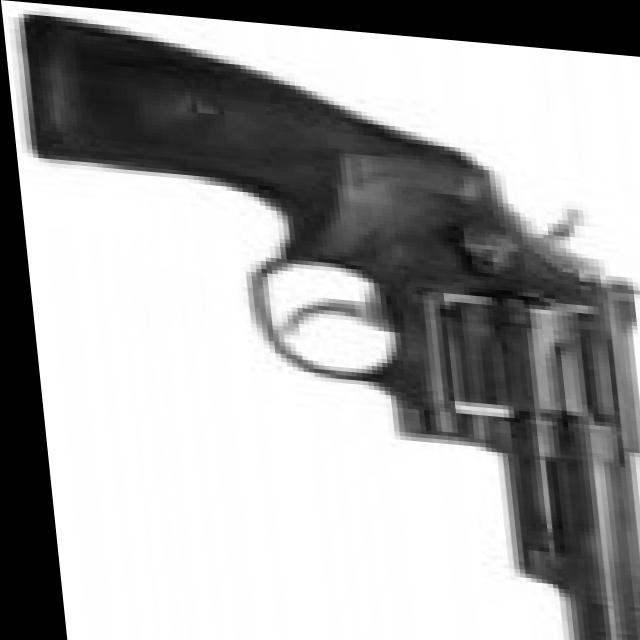handgun: (17, 13, 640, 640)
